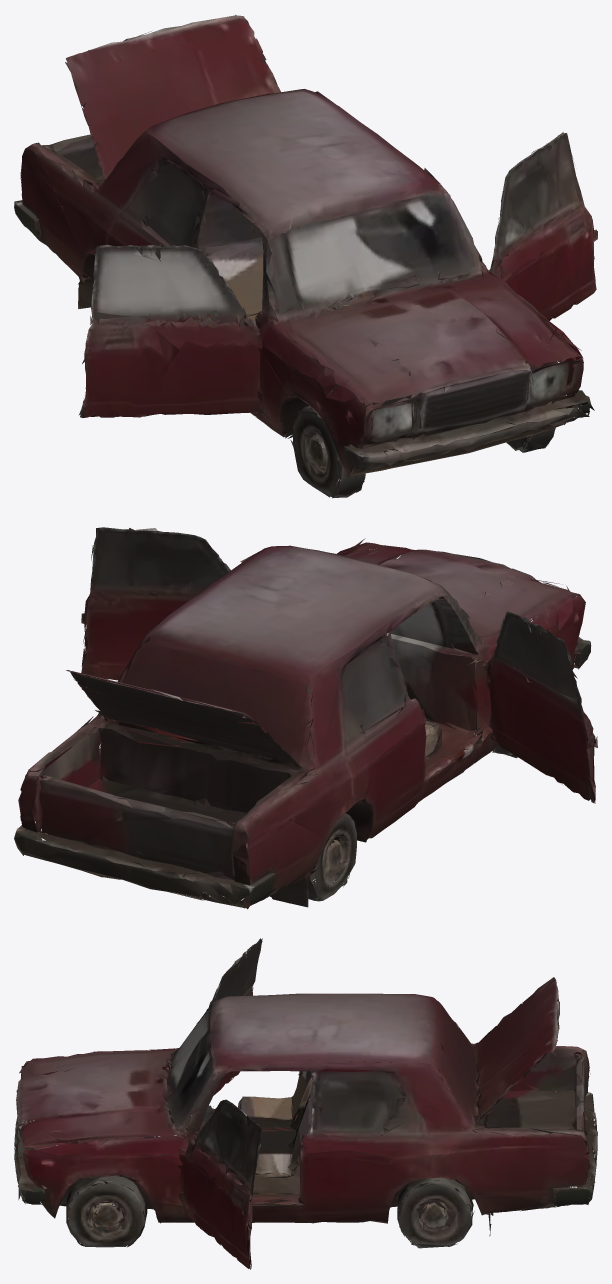
File: car_zhiguli_open.glb
3 views of the same model, one above another, from view 1: azimuth 30°, elevation 25°; view 2: azimuth 150°, elevation 25°; view 3: azimuth 270°, elevation 25° (orthographic). The views are drawn at different scales.
Parts seen in each view (by area): view 1: model; view 2: model; view 3: model.
Boxes of the visible parts, x1=… form: model: x1=14, y1=15, x2=597, y2=498; model: x1=14, y1=527, x2=597, y2=909; model: x1=14, y1=938, x2=597, y2=1269.
Size of the model in its own units: 1.61 by 0.7051 by 1.9.
Materials: 1 (1 with a texture image).
